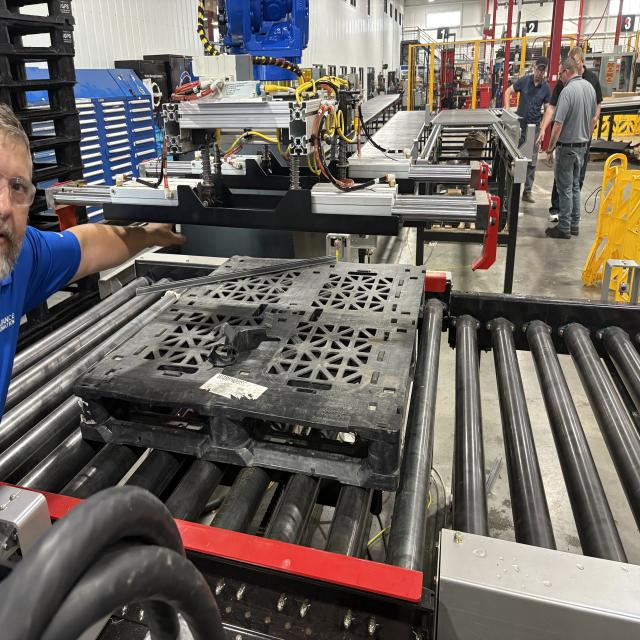igps: (68, 239, 431, 506), (0, 82, 83, 120), (0, 19, 77, 56), (0, 55, 82, 89), (31, 139, 86, 179), (26, 112, 84, 149), (0, 0, 76, 28)
